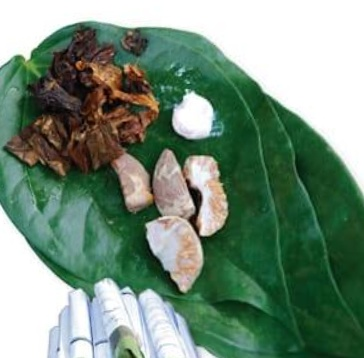bulathwita: (0, 0, 364, 358), (40, 275, 220, 358)
